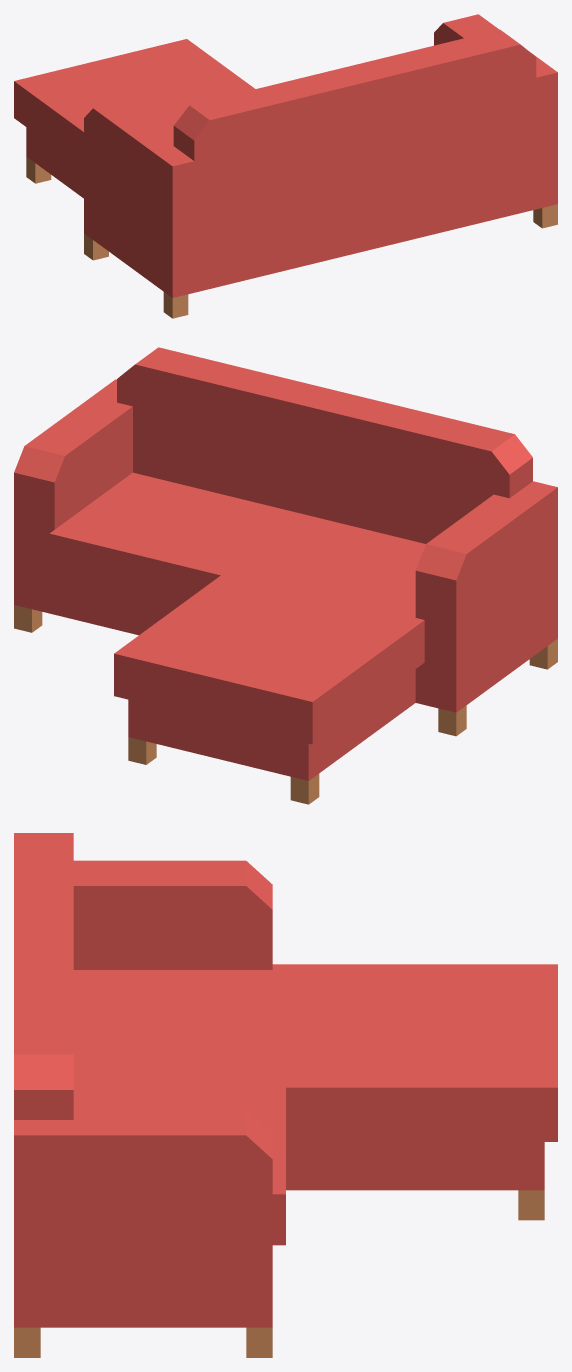
The model's file is loungeSofaLong.fbx.
3 renders of one model, top to bottom at view 1: azimuth 30°, elevation 25°; view 2: azimuth 150°, elevation 25°; view 3: azimuth 270°, elevation 25°, orthographic. The views are drawn at different scales.
Parts seen in each view (by area): view 1: loungeSofaLong; view 2: loungeSofaLong; view 3: loungeSofaLong.
Part boxes in pixels (left/top/right/bottom): loungeSofaLong: left=14, top=14, right=557, bottom=318; loungeSofaLong: left=14, top=347, right=557, bottom=804; loungeSofaLong: left=14, top=833, right=557, bottom=1357.
Bounding box in the file's own units: 9.8 × 4.6 × 8.2.
